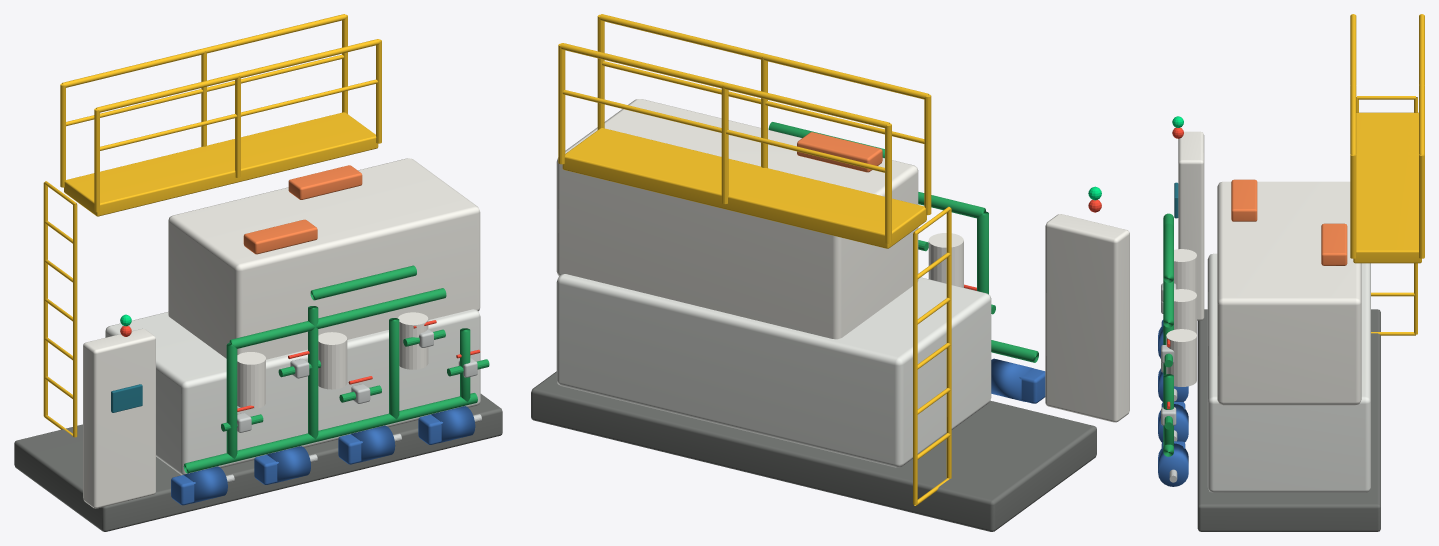
File: photo_washing_machine.glb
3 renders of one model, left to right at view 1: azimuth 30°, elevation 25°; view 2: azimuth 150°, elevation 25°; view 3: azimuth 270°, elevation 25°, orthographic. The views are drawn at different scales.
Visible parts, largest first — view 1: wash_upper_process_tank, wash_lower_tank, wash_base_frame, wash_upper_service_platform_deck, wash_control_cabinet, wash_green_lower_header, wash_green_mid_header, wash_upper_service_platform_top_rail_0.5, wash_upper_service_platform_top_rail_1.1, wash_top_lid_orange_left, wash_filter_canister_2, wash_top_lid_orange_right (+24 smaller); view 2: wash_lower_tank, wash_upper_process_tank, wash_base_frame, wash_upper_service_platform_deck, wash_control_cabinet, wash_upper_service_platform_top_rail_0.5, wash_upper_service_platform_top_rail_1.1, wash_top_lid_orange_left, wash_upper_service_platform_mid_rail_1.1, wash_upper_service_platform_mid_rail_0.5, wash_ladder_ladder_left, wash_filter_canister_1 (+10 smaller); view 3: wash_upper_process_tank, wash_lower_tank, wash_base_frame, wash_upper_service_platform_deck, wash_control_cabinet, wash_filter_canister_3, wash_top_lid_orange_left, wash_top_lid_orange_right, wash_blue_pump_04_motor_body, wash_upper_service_platform_top_rail_0.5, wash_filter_canister_2, wash_filter_canister_1 (+9 smaller).
Boxes of the visible parts, bbox=[...] form: wash_upper_process_tank: bbox=[168, 158, 480, 359]; wash_lower_tank: bbox=[105, 309, 480, 475]; wash_base_frame: bbox=[14, 394, 502, 531]; wash_upper_service_platform_deck: bbox=[64, 112, 378, 216]; wash_control_cabinet: bbox=[83, 328, 155, 508]; wash_green_lower_header: bbox=[183, 393, 477, 473]; wash_green_mid_header: bbox=[229, 288, 446, 348]; wash_upper_service_platform_top_rail_0.5: bbox=[96, 39, 380, 112]; wash_upper_service_platform_top_rail_1.1: bbox=[62, 14, 345, 87]; wash_top_lid_orange_left: bbox=[243, 219, 317, 254]; wash_filter_canister_2: bbox=[318, 332, 347, 389]; wash_top_lid_orange_right: bbox=[288, 165, 362, 199]; wash_lower_tank: bbox=[556, 274, 991, 467]; wash_upper_process_tank: bbox=[556, 99, 918, 339]; wash_base_frame: bbox=[531, 371, 1096, 531]; wash_upper_service_platform_deck: bbox=[562, 128, 926, 248]; wash_control_cabinet: bbox=[1045, 214, 1129, 422]; wash_upper_service_platform_top_rail_0.5: bbox=[599, 14, 928, 99]; wash_upper_service_platform_top_rail_1.1: bbox=[560, 43, 889, 128]; wash_top_lid_orange_left: bbox=[797, 132, 882, 172]; wash_upper_service_platform_mid_rail_1.1: bbox=[562, 90, 885, 172]; wash_upper_service_platform_mid_rail_0.5: bbox=[602, 61, 924, 143]; wash_ladder_ladder_left: bbox=[946, 208, 951, 478]; wash_filter_canister_1: bbox=[928, 233, 963, 287]; wash_upper_process_tank: bbox=[1217, 181, 1361, 405]; wash_lower_tank: bbox=[1207, 253, 1370, 492]; wash_base_frame: bbox=[1197, 309, 1380, 531]; wash_upper_service_platform_deck: bbox=[1353, 112, 1421, 263]; wash_control_cabinet: bbox=[1178, 131, 1204, 320]; wash_filter_canister_3: bbox=[1166, 329, 1196, 386]; wash_top_lid_orange_left: bbox=[1231, 179, 1257, 221]; wash_top_lid_orange_right: bbox=[1321, 223, 1347, 265]; wash_blue_pump_04_motor_body: bbox=[1158, 443, 1188, 486]; wash_upper_service_platform_top_rail_0.5: bbox=[1350, 14, 1356, 154]; wash_filter_canister_2: bbox=[1174, 289, 1196, 334]; wash_filter_canister_1: bbox=[1174, 249, 1196, 294].
Size of the model in its own units: 4.14 by 3.32 by 2.25.
